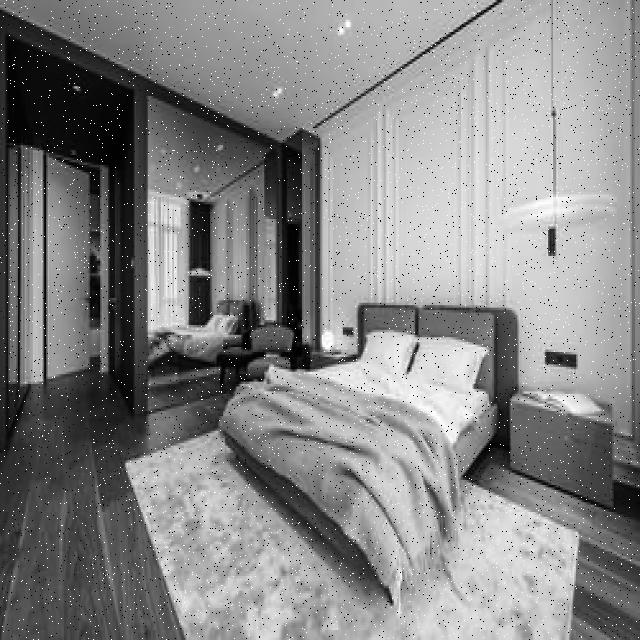bed: (227, 297, 519, 549)
